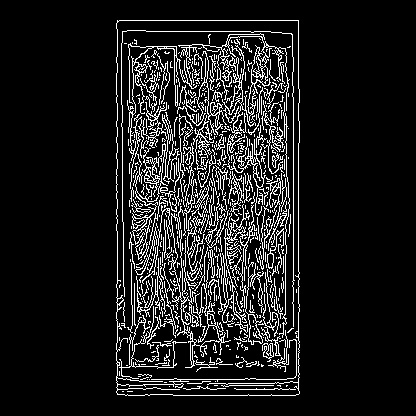buddha-standing: (54, 196, 157, 296)
